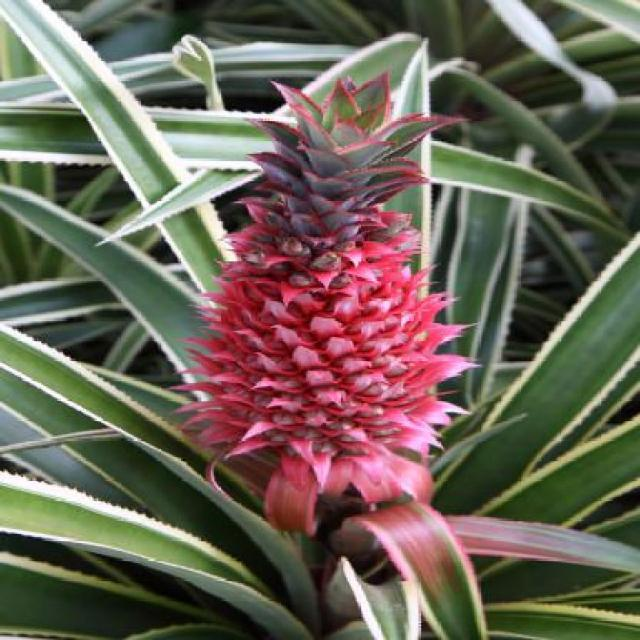Pineapple: (164, 68, 473, 494)
